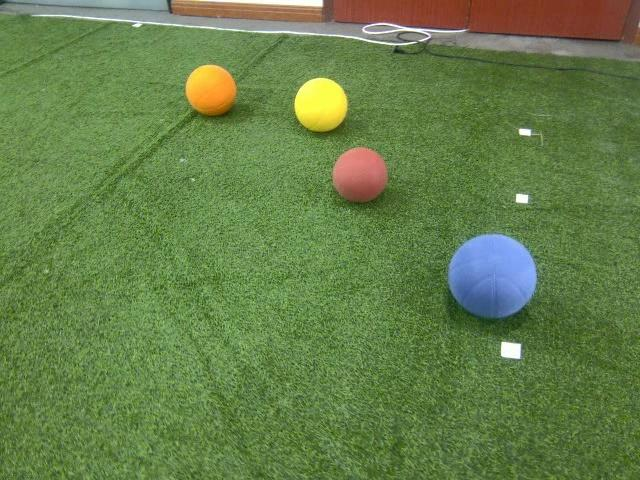blue_ball: (446, 234, 536, 320)
orange_ball: (185, 63, 238, 116)
red_ball: (332, 146, 388, 204)
yellow_ball: (295, 77, 348, 132)
